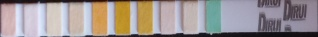color 1: (2, 6, 14, 35)
color 10: (207, 2, 219, 30)
color 2: (25, 5, 38, 35)
color 3: (47, 5, 59, 34)
color 4: (70, 5, 82, 34)
color 5: (92, 4, 105, 32)
color 6: (116, 4, 128, 33)
color 7: (139, 3, 151, 33)
color 8: (160, 3, 173, 32)
color 9: (184, 4, 196, 32)
